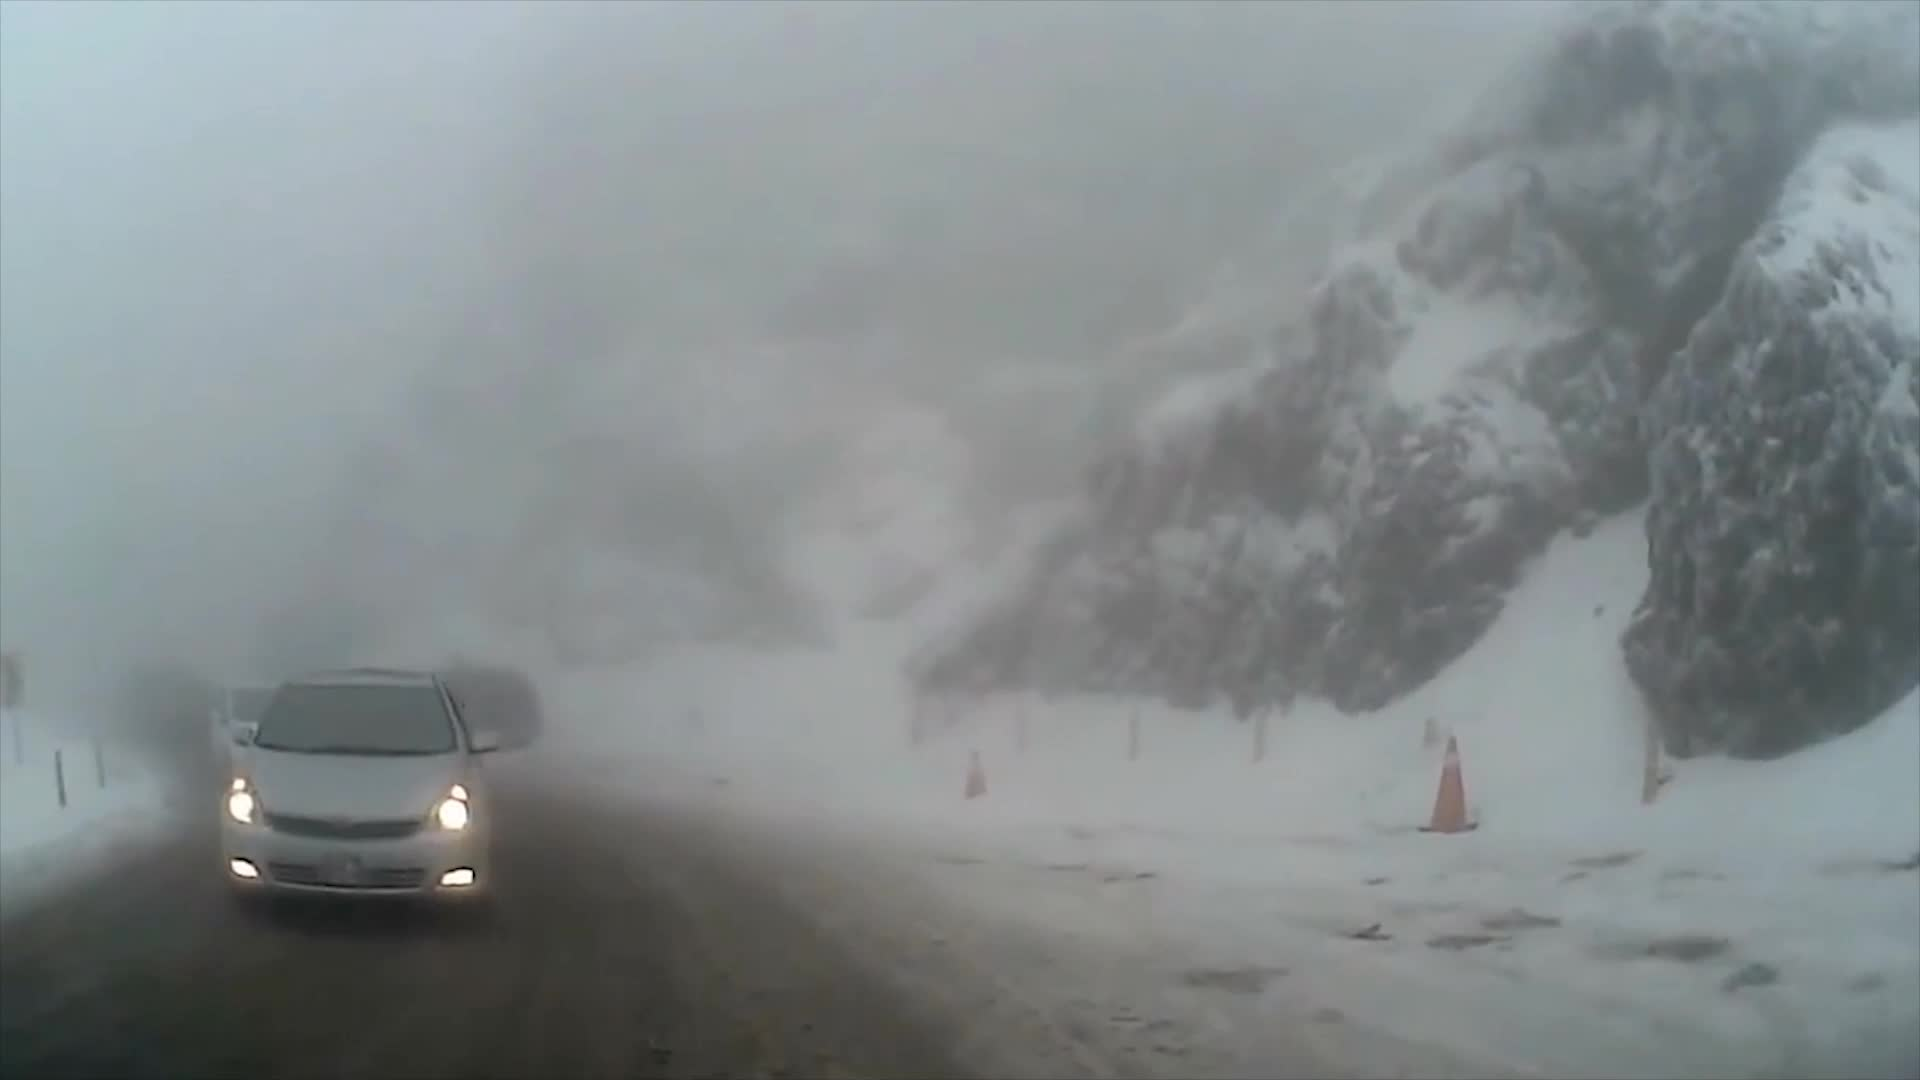vehicle: (214, 666, 500, 924), (193, 678, 342, 793)
